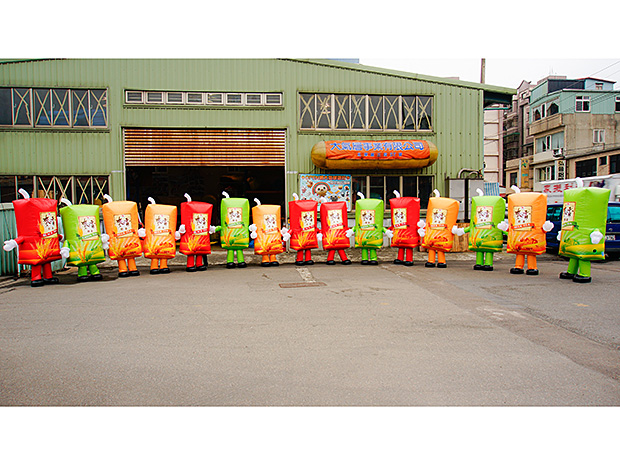milk tea: (512, 204, 543, 252), (424, 204, 455, 252), (254, 203, 285, 251), (147, 206, 178, 254), (107, 206, 138, 254)
